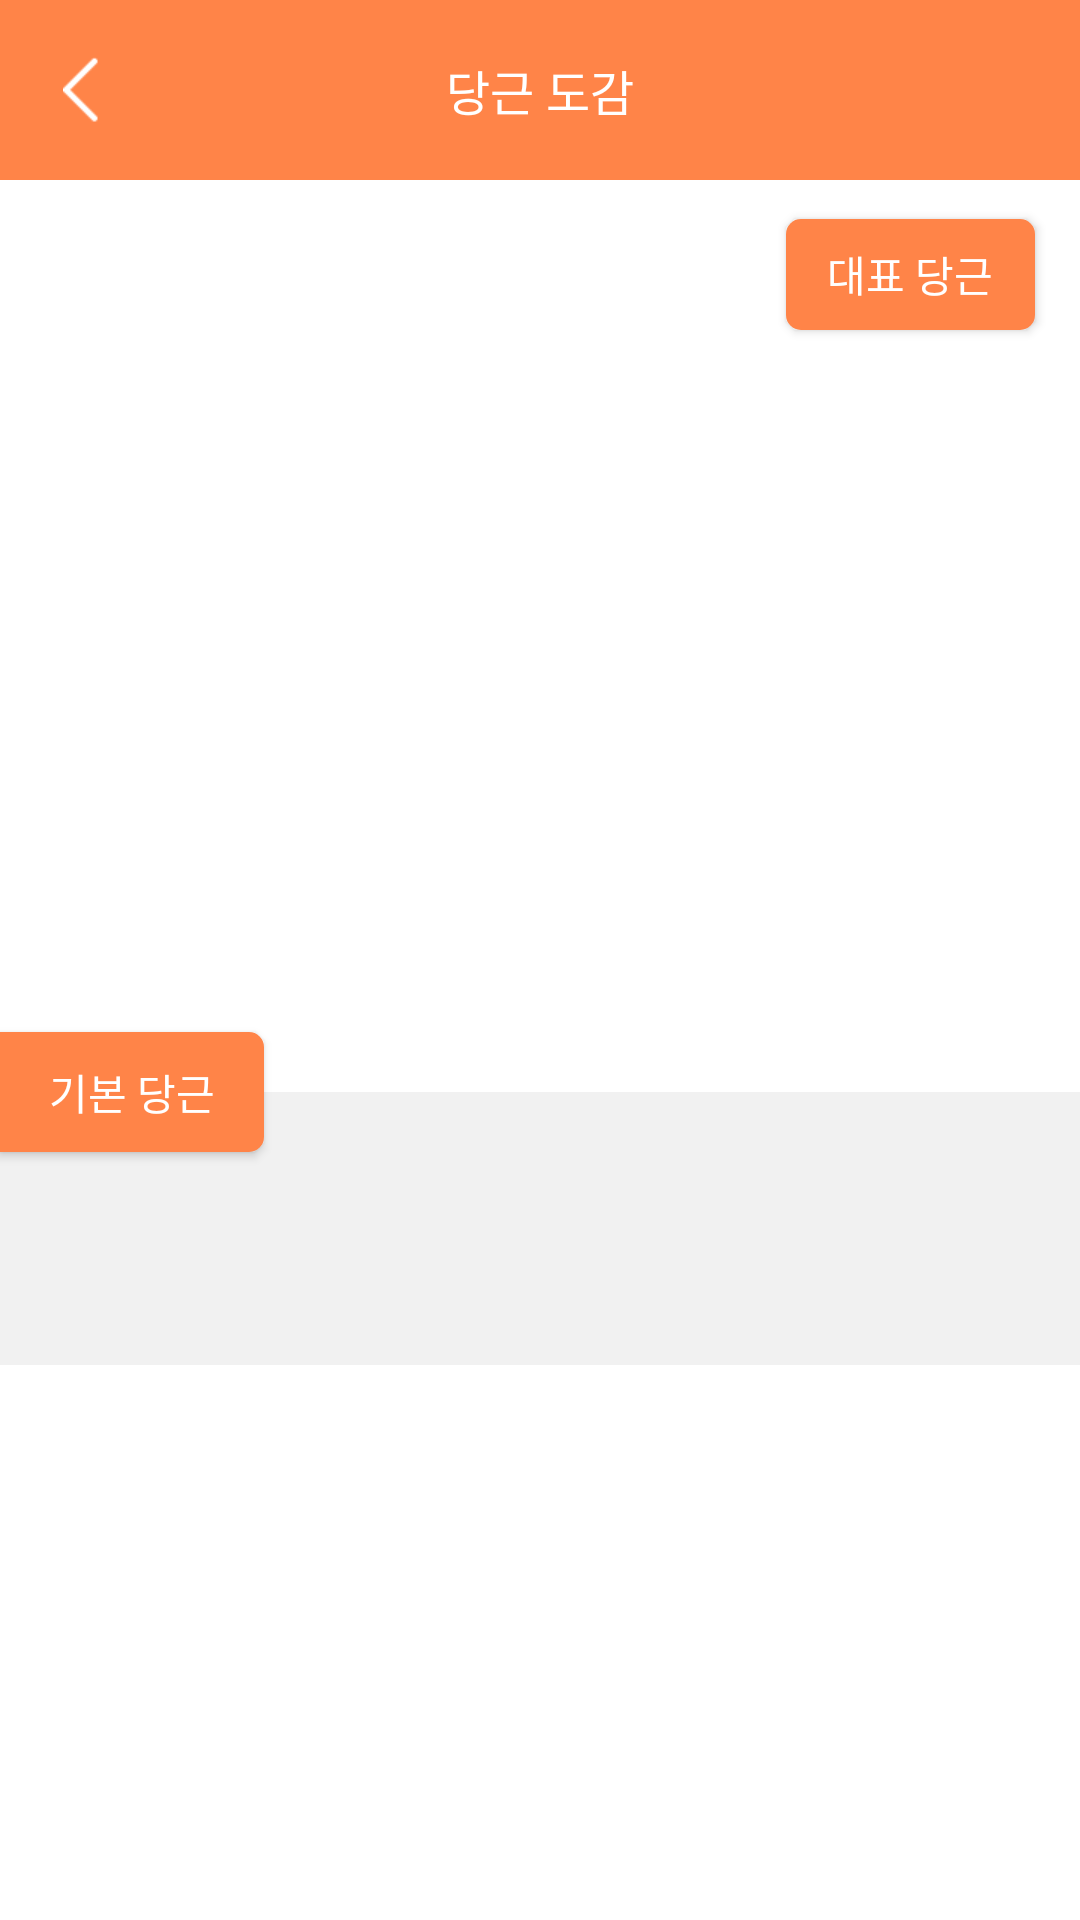

Point at icon controls on the screen. Image size 1080px x 1920px, points as (x,y).
left: (80,90)
